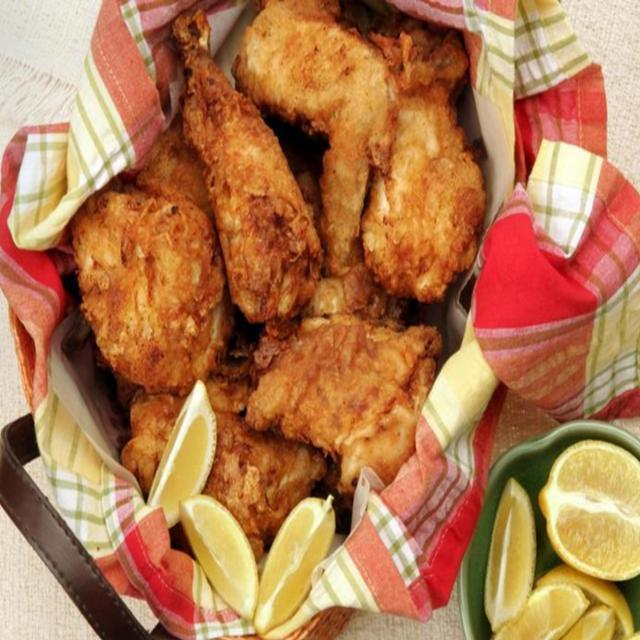Chicken: (72, 5, 486, 564)
